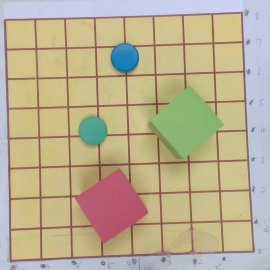blue: (109, 43, 140, 73)
green: (78, 115, 108, 145)
